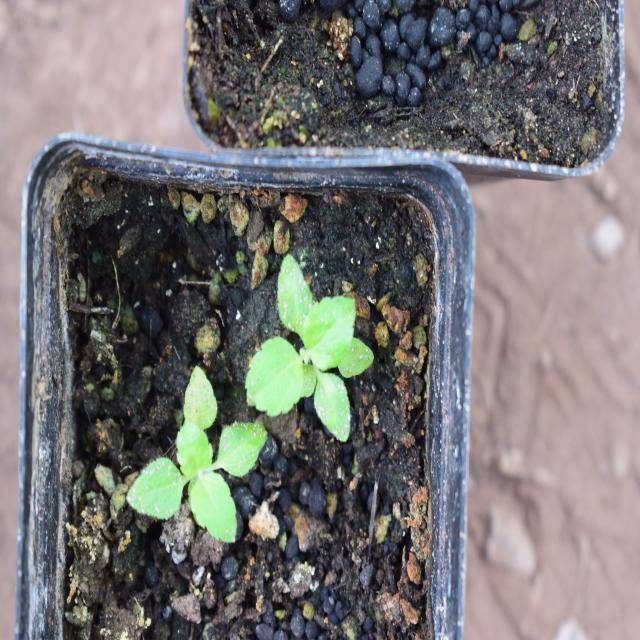billygoat_weed: (124, 366, 264, 558), (249, 253, 392, 436)
